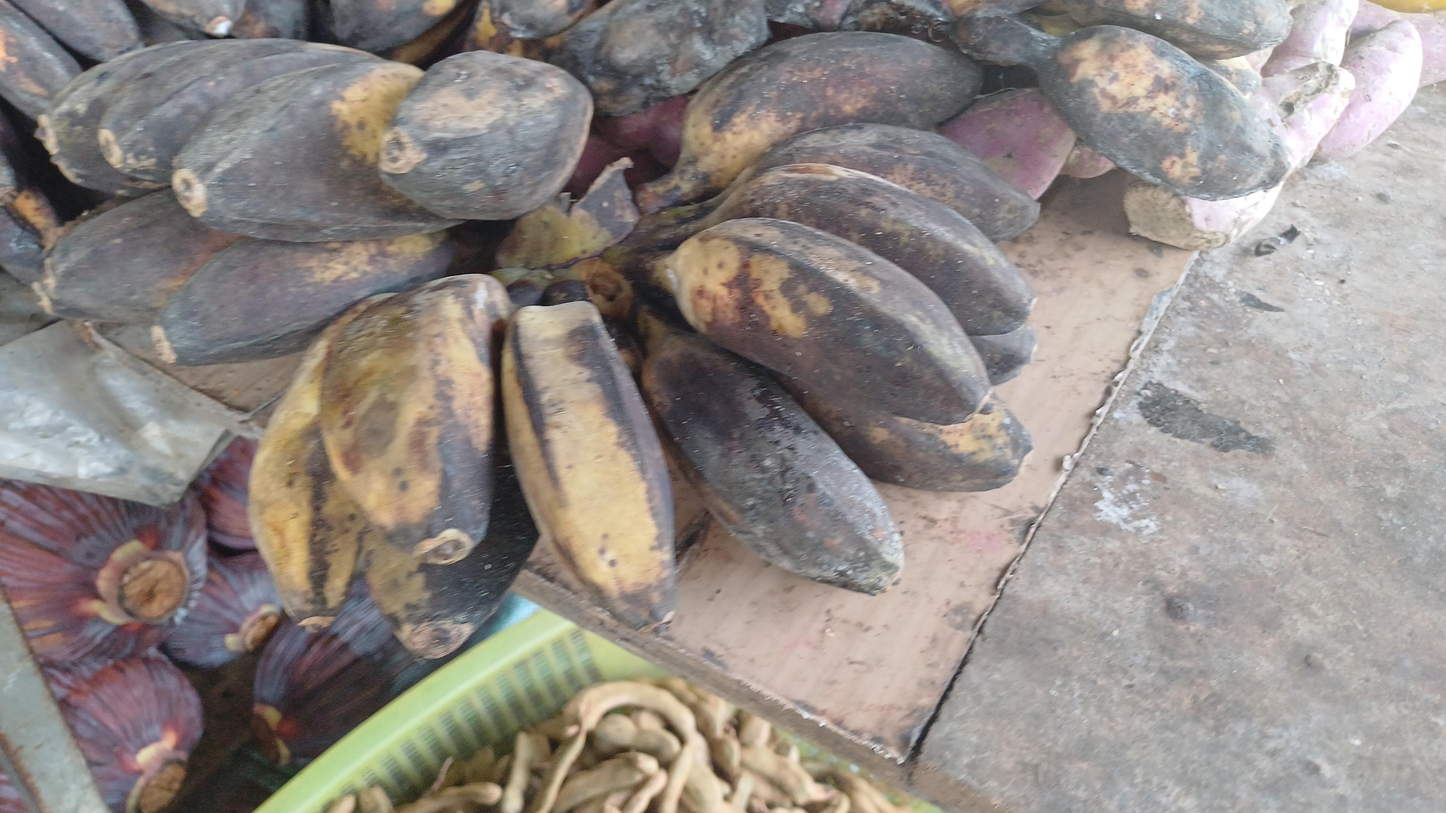overripe: (245, 31, 1041, 660), (35, 39, 593, 365), (1031, 0, 1290, 201), (0, 0, 307, 119)
